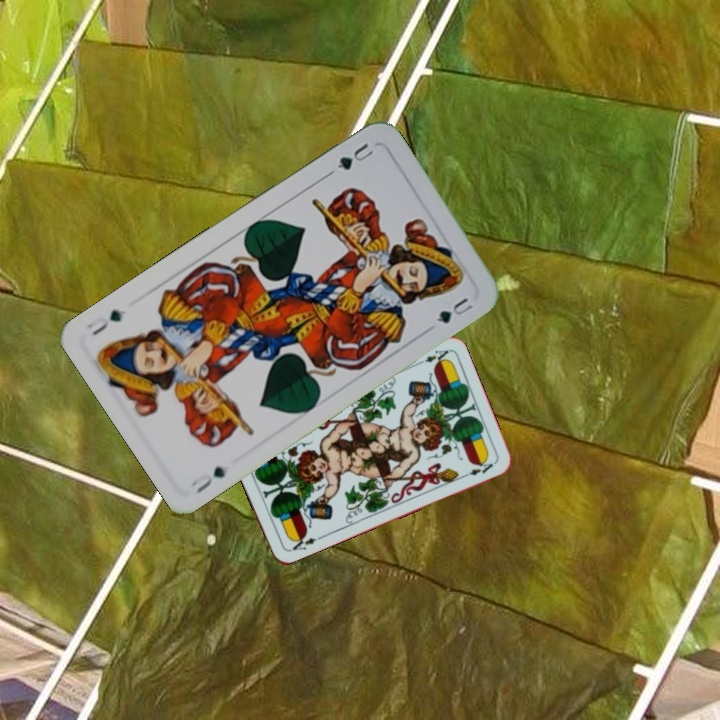EA: (412, 346, 452, 368), (288, 530, 324, 553)
GU: (332, 138, 376, 173), (185, 462, 228, 497)
